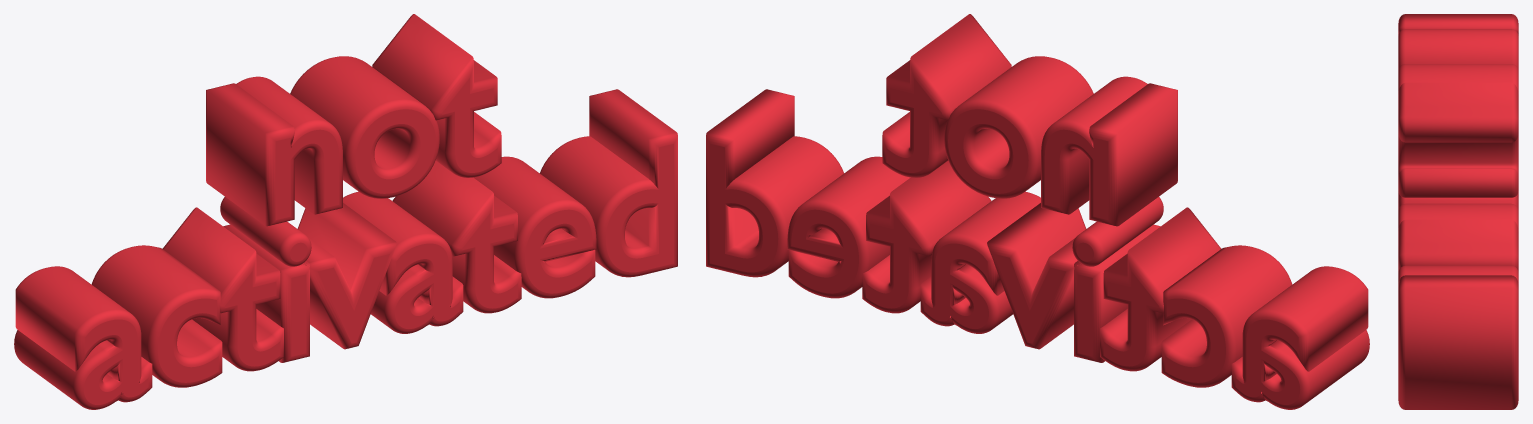
The model's file is nactive.glb.
3 views of the same model, side by side, from view 1: azimuth 30°, elevation 25°; view 2: azimuth 150°, elevation 25°; view 3: azimuth 270°, elevation 25° (orthographic). The views are drawn at different scales.
Parts seen in each view (by area): view 1: Text; view 2: Text; view 3: Text.
Boxes of the visible parts, left/top/right/bottom form: Text: left=14, top=14, right=677, bottom=409; Text: left=706, top=14, right=1369, bottom=409; Text: left=1398, top=14, right=1518, bottom=409.
Bounding box in the file's own units: 3.6 × 1.49 × 0.68.
